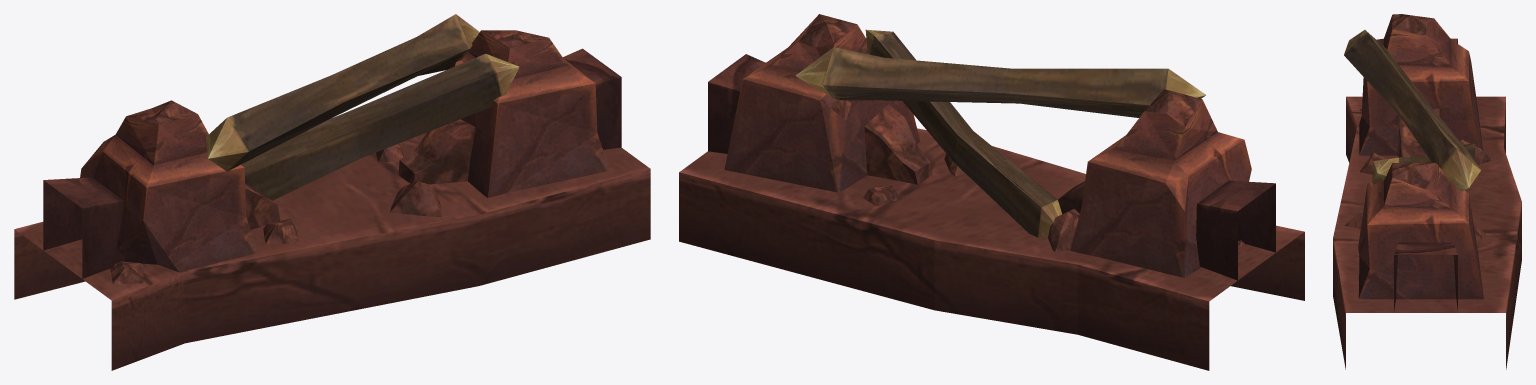
Rendered from lava_railing_straight_04.fbx.
The picture shows the model from 3 angles, left to right: view 1: azimuth 30°, elevation 25°; view 2: azimuth 150°, elevation 25°; view 3: azimuth 270°, elevation 25°; orthographic projection. The views are drawn at different scales.
Parts seen in each view (by area): view 1: obj2.006; view 2: obj2.006; view 3: obj2.006.
Part boxes in pixels (left/top/right/bottom): obj2.006: left=14, top=14, right=650, bottom=370; obj2.006: left=679, top=14, right=1304, bottom=370; obj2.006: left=1333, top=14, right=1521, bottom=369.
Size of the model in its own units: 4 by 1.54 by 1.48.
